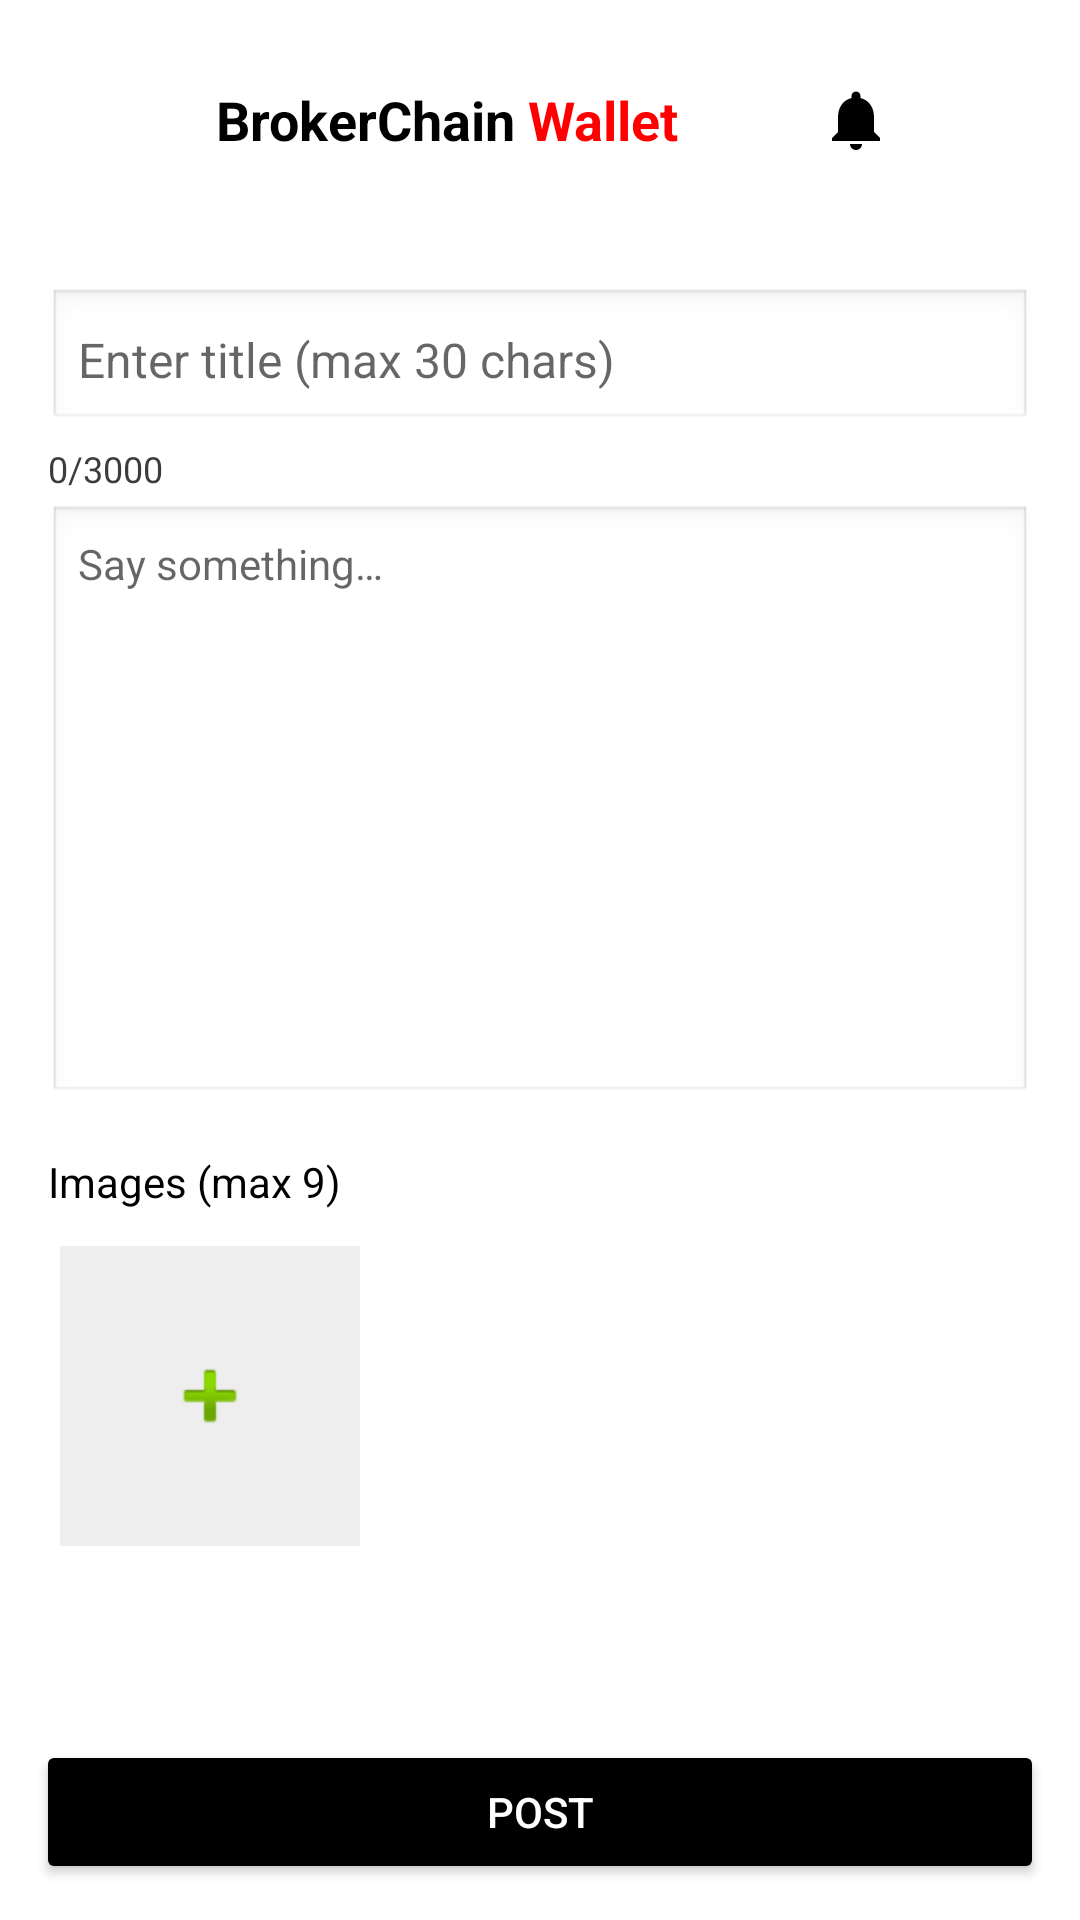

Icons on this 1080x1920 Android screen, each with its box as (x1, y1, x2, y2):
Notifications: (832, 91, 880, 150)
